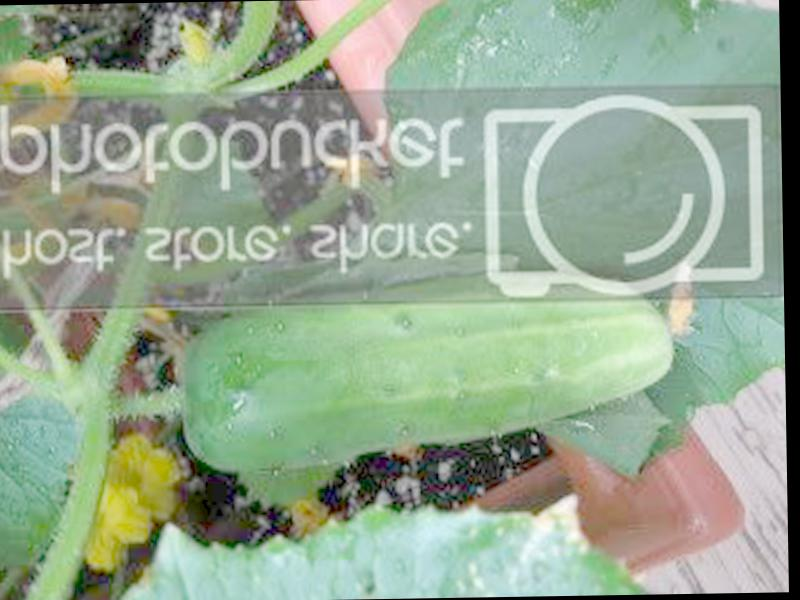Cucumber: (184, 268, 679, 474)
